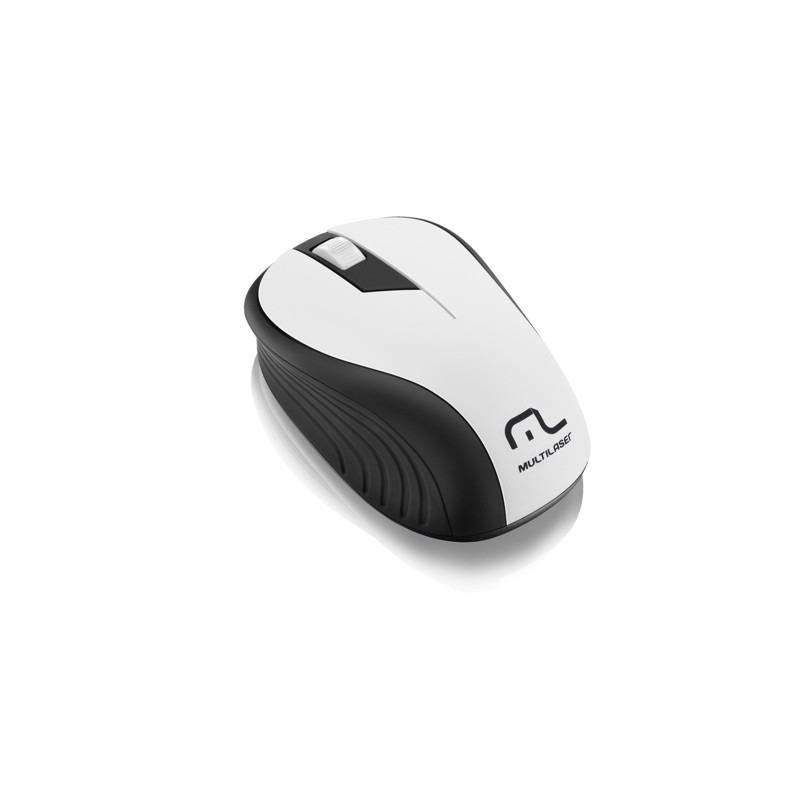mouse: (234, 168, 615, 567)
